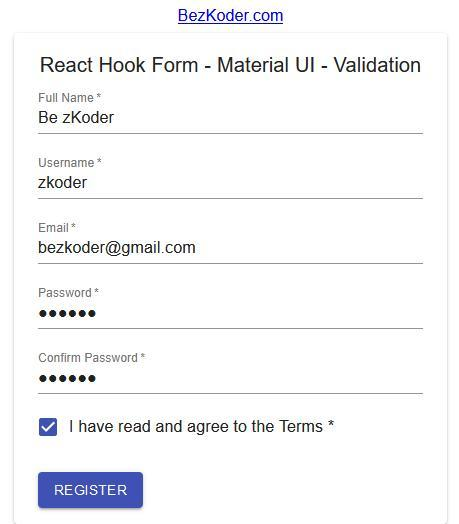button: (38, 472, 146, 510)
checkbox: (39, 418, 60, 438)
label: (38, 55, 424, 76), (69, 415, 340, 436), (39, 352, 151, 363), (39, 286, 101, 301), (39, 91, 104, 104), (38, 156, 103, 169), (37, 222, 81, 235)
